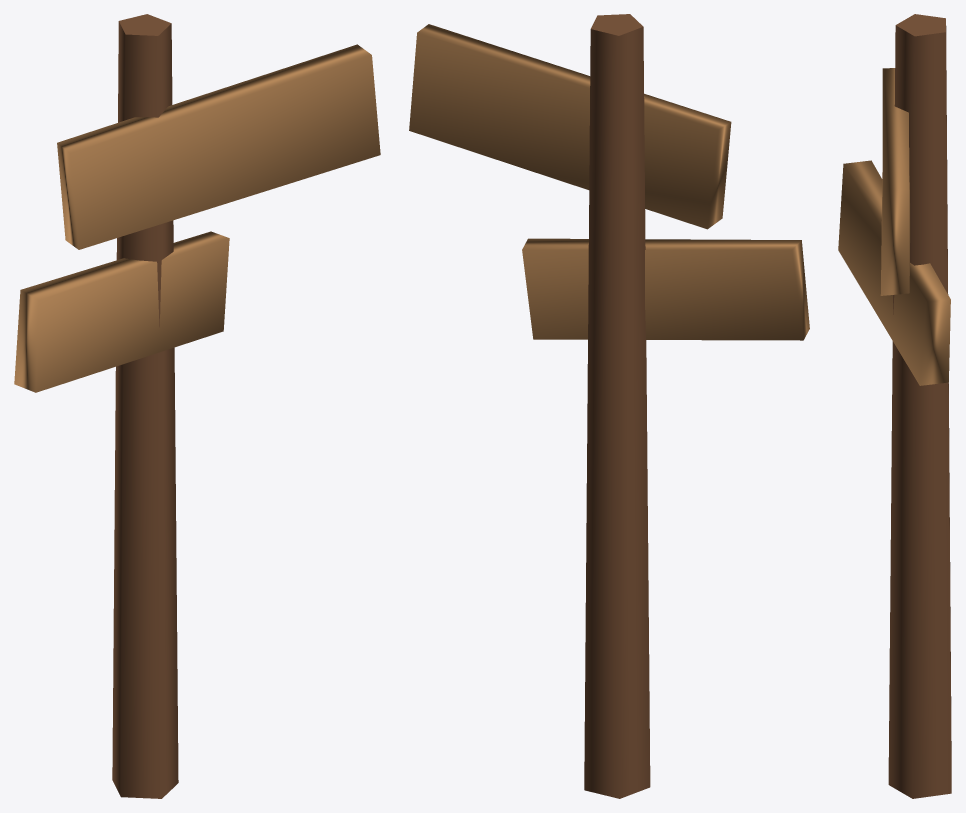
The model's file is stage1_signpost.glb.
3 renders of one model, left to right at view 1: azimuth 30°, elevation 25°; view 2: azimuth 150°, elevation 25°; view 3: azimuth 270°, elevation 25°, orthographic.
Parts seen in each view (by area): view 1: stage1_signpost_plank, stage1_signpost_bark; view 2: stage1_signpost_plank, stage1_signpost_bark; view 3: stage1_signpost_bark, stage1_signpost_plank.
Part boxes in pixels (<box>): stage1_signpost_plank: <box>14,44,380,392</box>; stage1_signpost_bark: <box>112,14,178,798</box>; stage1_signpost_plank: <box>409,24,809,340</box>; stage1_signpost_bark: <box>584,14,650,798</box>; stage1_signpost_bark: <box>888,14,951,798</box>; stage1_signpost_plank: <box>838,68,950,385</box>.
Size of the model in its own units: 0.6173 by 1.2 by 0.1625.
